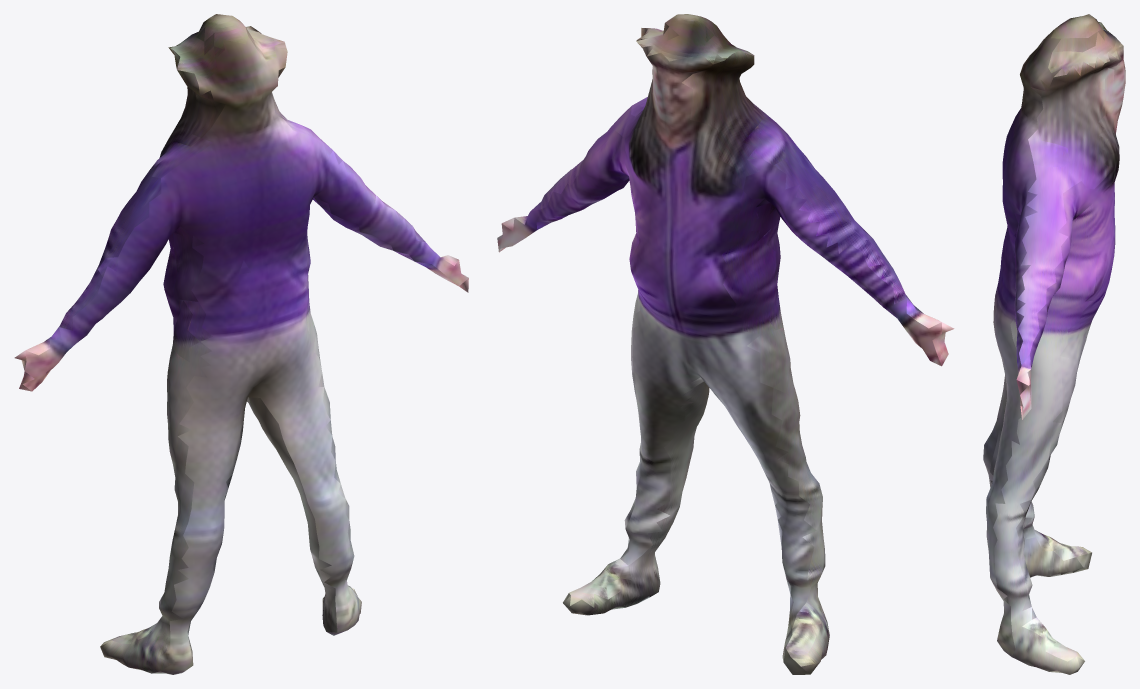
3 views of the same model, side by side, from view 1: azimuth 30°, elevation 25°; view 2: azimuth 150°, elevation 25°; view 3: azimuth 270°, elevation 25° (orthographic). The views are drawn at different scales.
Visible parts, largest first — view 1: world; view 2: world; view 3: world.
Boxes of the visible parts, x1,y1,x2,y2 form: world: (14,14,468,674); world: (497,14,954,674); world: (983,14,1125,674).
Size of the model in its own units: 0.7749 by 1.01 by 0.2174.
1 material, 1 textured.
